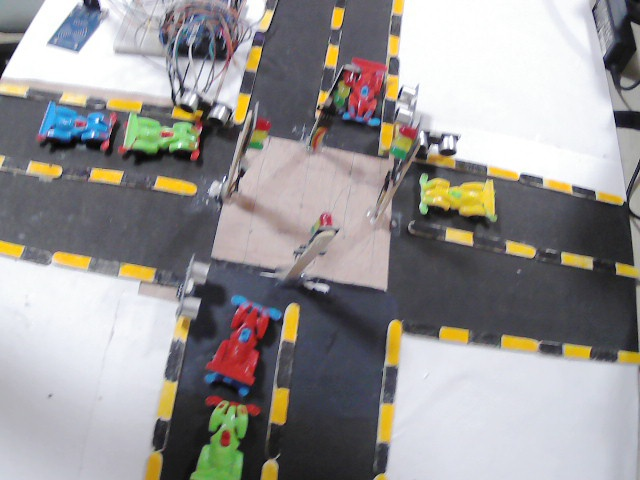car: (203, 294, 276, 396), (192, 398, 260, 480), (119, 110, 206, 161), (417, 173, 502, 222), (38, 105, 120, 151), (343, 55, 389, 128)
mixed_lane: (408, 216, 640, 284), (411, 150, 626, 210), (402, 318, 640, 363), (140, 315, 195, 477), (0, 239, 183, 285), (256, 303, 303, 480), (0, 153, 196, 195), (2, 81, 203, 120), (368, 318, 411, 477), (234, 0, 278, 122), (315, 0, 354, 113), (375, 0, 404, 150)
traffic_light: (315, 66, 358, 132), (298, 204, 338, 273), (384, 126, 421, 198), (233, 112, 273, 174)
uno_breadboard: (113, 0, 252, 63), (46, 0, 112, 51), (174, 254, 214, 315), (176, 87, 228, 126), (416, 126, 467, 155), (392, 83, 422, 126)
